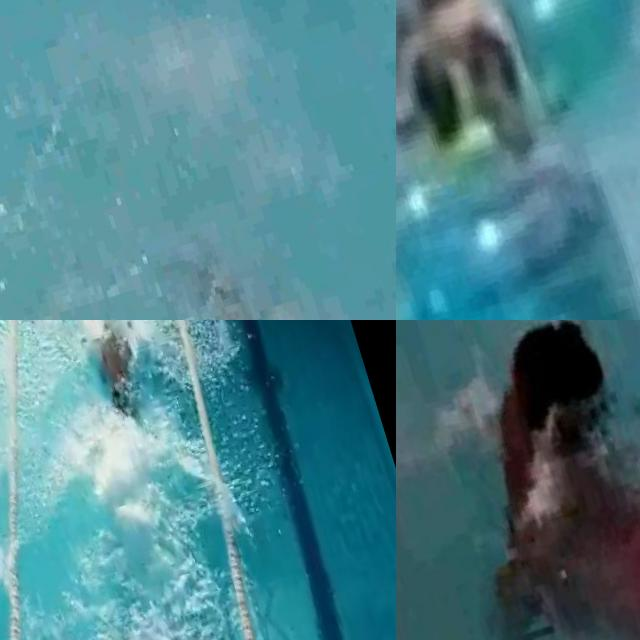drowning: (396, 320, 640, 640), (158, 227, 378, 320)
swimming: (396, 13, 555, 197), (68, 320, 174, 442), (396, 153, 463, 320), (396, 0, 498, 39)
